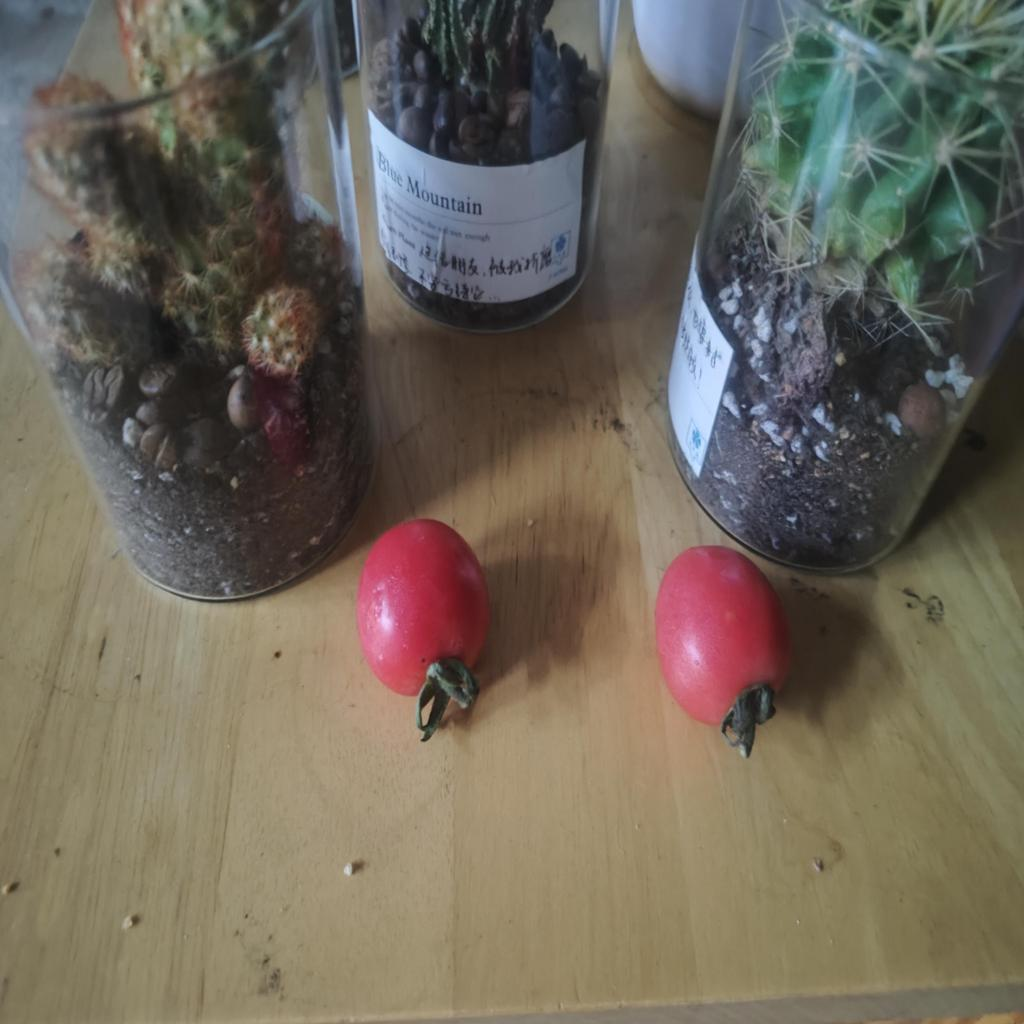tomato: (642, 543, 788, 741), (365, 523, 487, 714)
